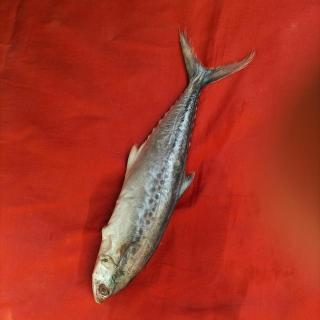Ikan: (86, 19, 268, 310)
